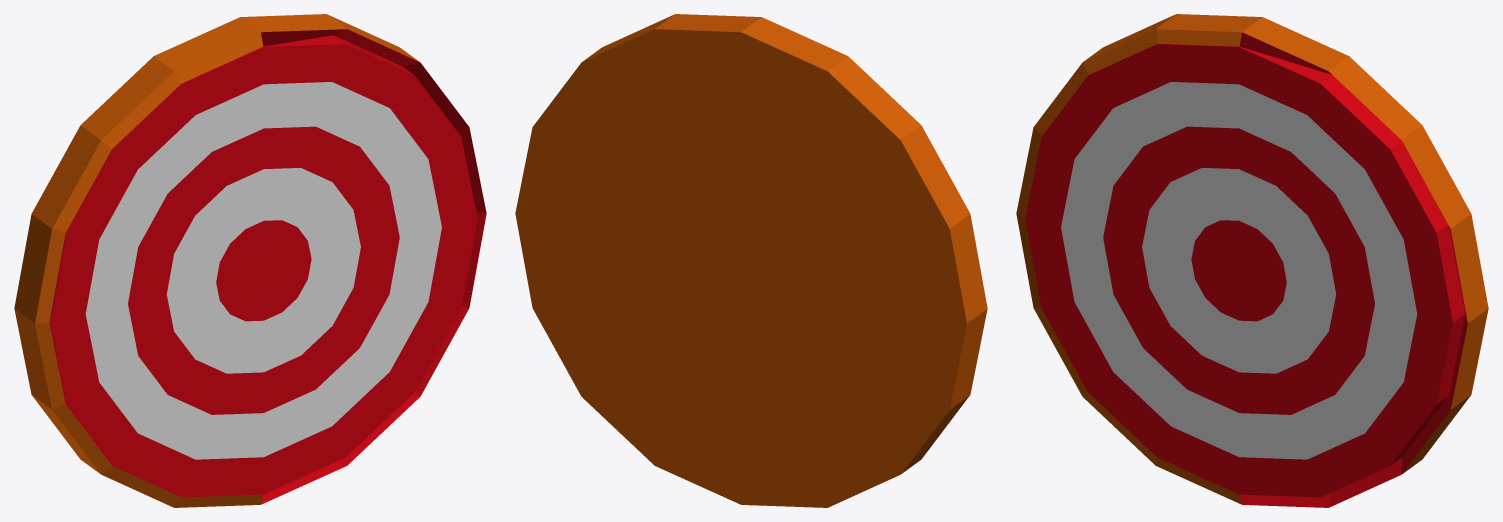
The model's file is Target.fbx.
3 views of the same model, side by side, from view 1: azimuth 30°, elevation 25°; view 2: azimuth 150°, elevation 25°; view 3: azimuth 330°, elevation 25° (orthographic).
Parts seen in each view (by area): view 1: Target; view 2: Target; view 3: Target.
Boxes of the visible parts, x1,y1,x2,y2 form: Target: (14,14,486,507); Target: (515,14,987,507); Target: (1016,14,1488,507).
Bounding box in the file's own units: 2020 × 2020 × 184.
